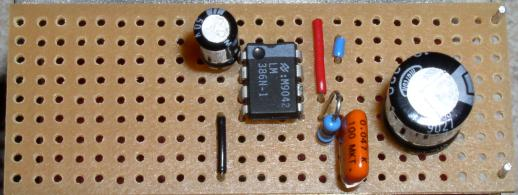Capacitor: (380, 48, 476, 156), (190, 5, 242, 73)
Resistor: (315, 107, 342, 147)
